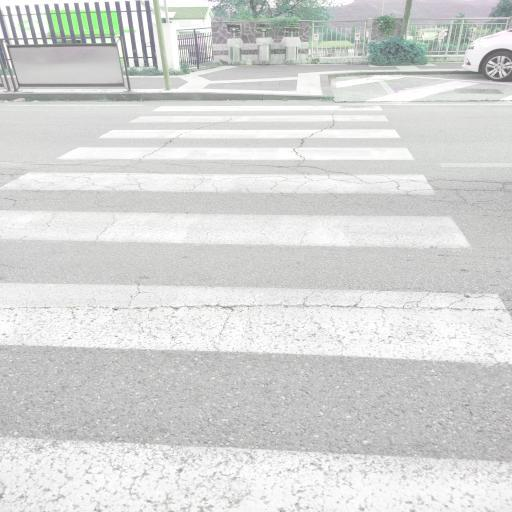crosswalk: (1, 272, 511, 511), (0, 142, 442, 204)
